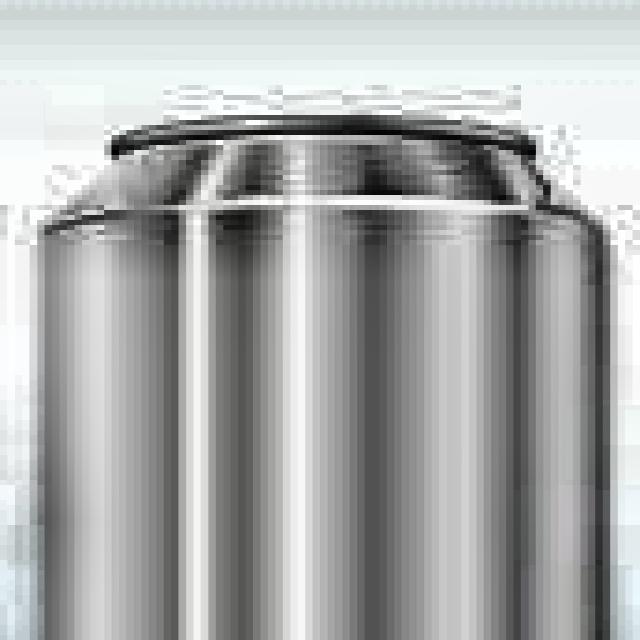metal: (22, 95, 632, 640)
